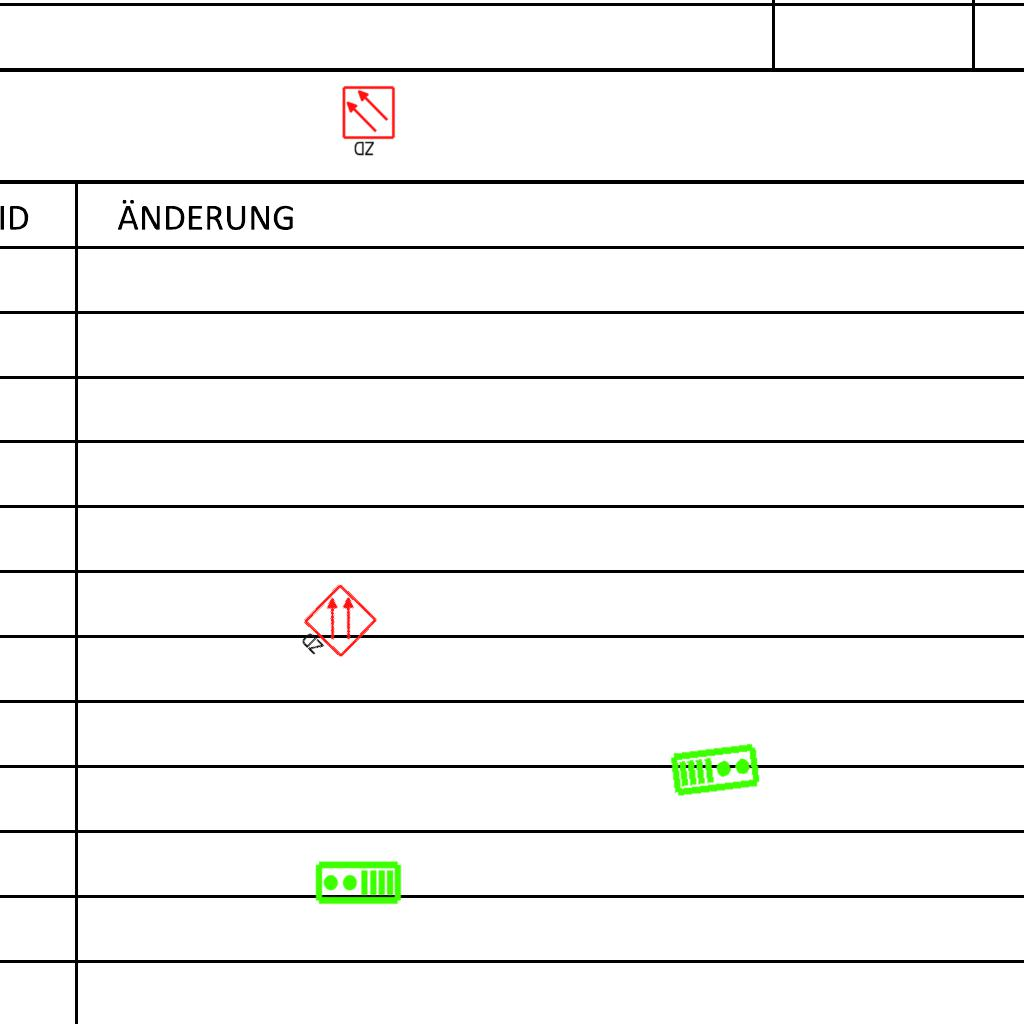Gegensprechanlage_mit_Video: (668, 740, 763, 798), (314, 860, 402, 907)
ZD_Melder_in_Zwischendecke_mit_Revisionsoeffnung_mind_40_x_40_cm: (288, 581, 381, 675), (341, 85, 398, 159)
